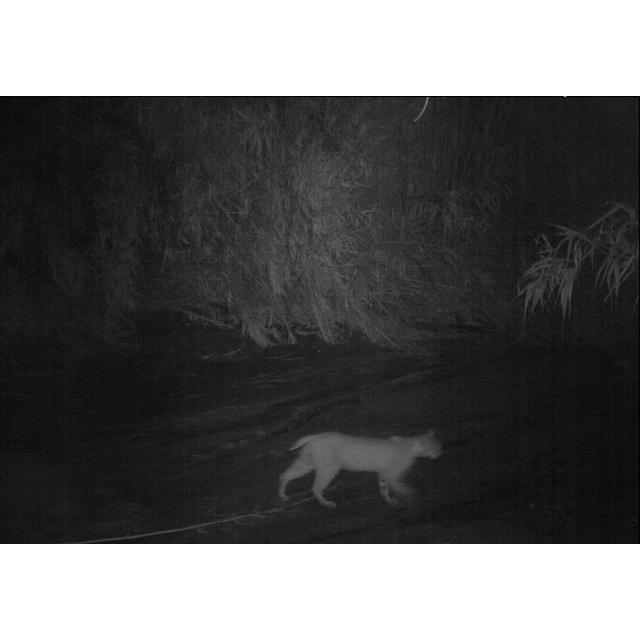animals: (276, 428, 444, 510)
